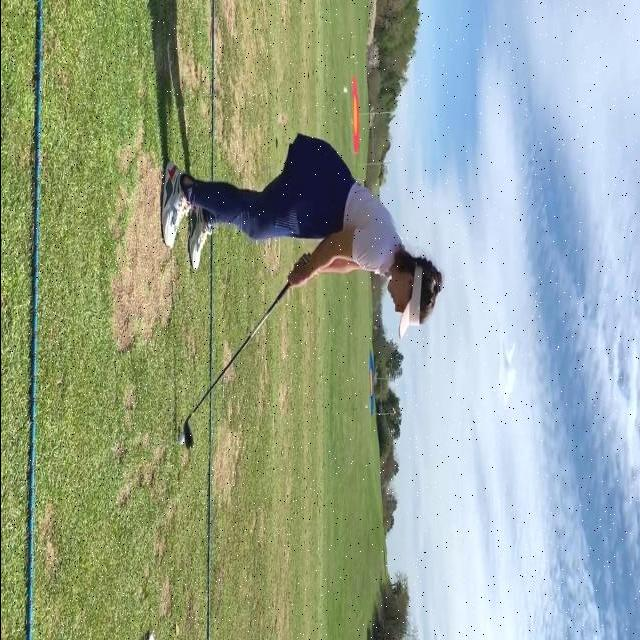golf ball: (177, 432, 184, 445)
golf club-handle: (181, 252, 310, 454)
golf club-head: (186, 425, 194, 452)
